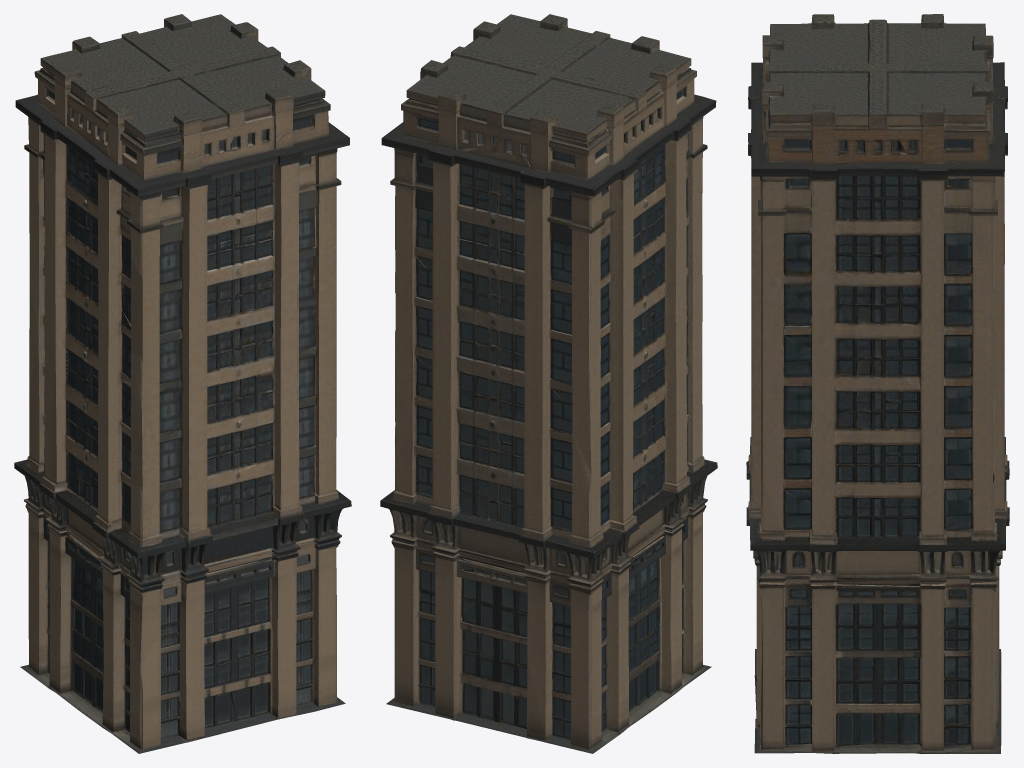
The model's file is city_building_2.glb.
3 views of the same model, side by side, from view 1: azimuth 30°, elevation 25°; view 2: azimuth 150°, elevation 25°; view 3: azimuth 270°, elevation 25° (orthographic). The views are drawn at different scales.
Visible parts, largest first — view 1: output_unwrapped; view 2: output_unwrapped; view 3: output_unwrapped.
Boxes of the visible parts, x1,y1,x2,y2 form: output_unwrapped: (14, 14, 351, 753); output_unwrapped: (380, 14, 717, 753); output_unwrapped: (746, 14, 1009, 753).
Size of the model in its own units: 0.7076 by 1.9 by 0.7074.
Materials: 1 (1 with a texture image).
